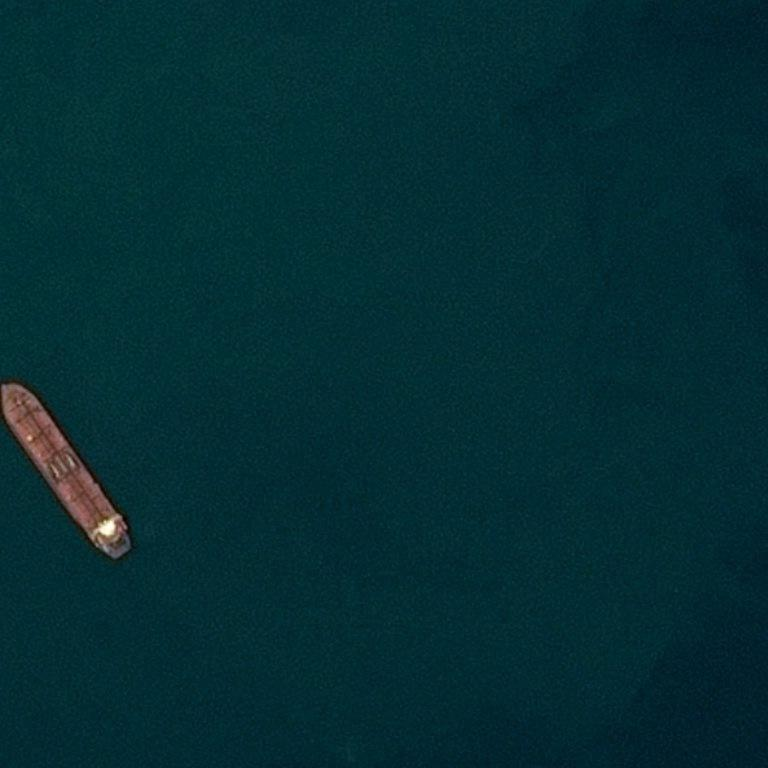ship: (38, 371, 96, 557), (126, 537, 131, 545), (2, 385, 7, 392), (105, 551, 110, 556)
